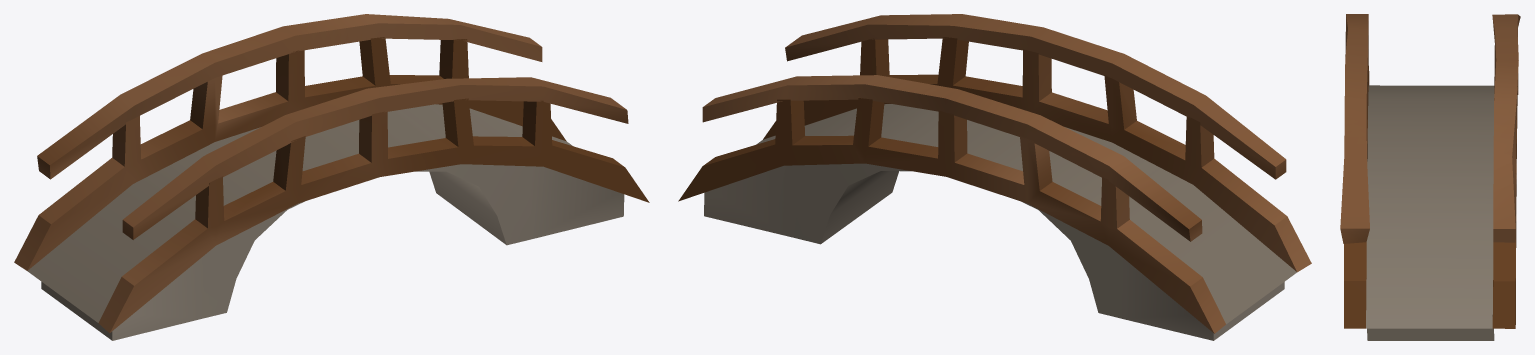
Rendered from Bridge.fbx.
3 renders of one model, left to right at view 1: azimuth 30°, elevation 25°; view 2: azimuth 150°, elevation 25°; view 3: azimuth 270°, elevation 25°, orthographic. The views are drawn at different scales.
Visible parts, largest first — view 1: Bridge; view 2: Bridge; view 3: Bridge.
Boxes of the visible parts, box(x1,y1,x2,y2) form: Bridge: box(14, 14, 649, 340); Bridge: box(678, 14, 1311, 340); Bridge: box(1340, 14, 1520, 340).
Bounding box in the file's own units: 8.6 × 2.9 × 2.8.
Materials: 1 (1 with a texture image).
